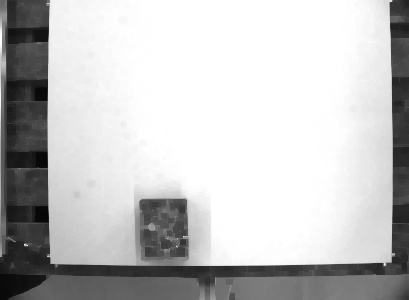klts: (135, 195, 193, 264)
